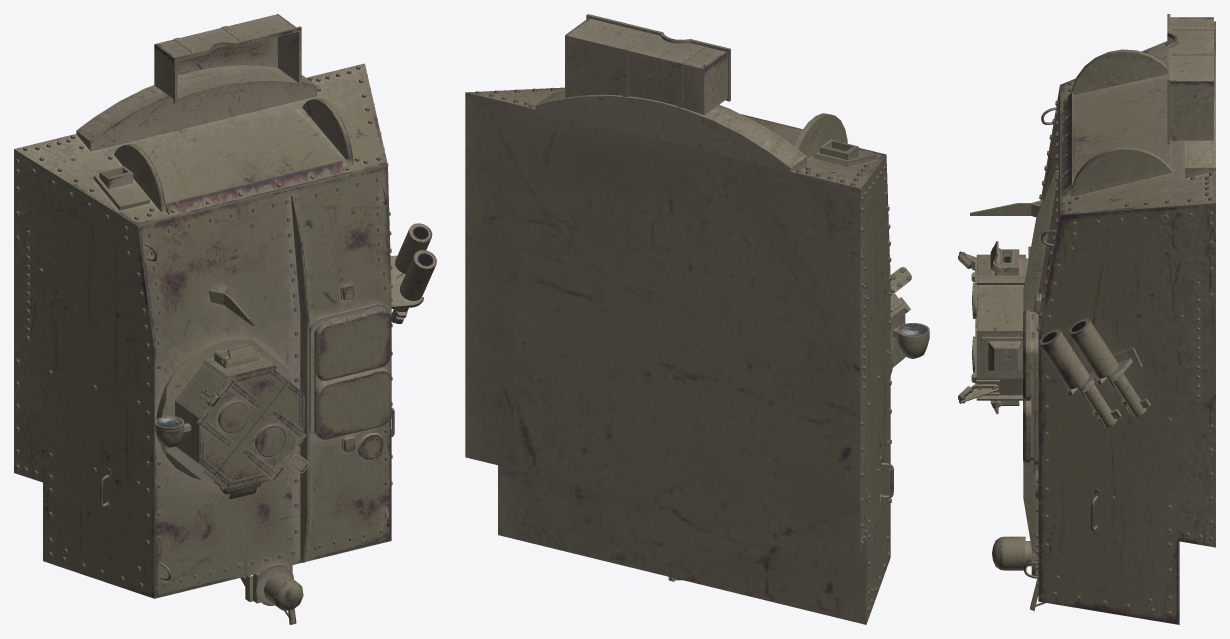
The model's file is Turret_01.glb.
The picture shows the model from 3 angles, left to right: view 1: azimuth 30°, elevation 25°; view 2: azimuth 150°, elevation 25°; view 3: azimuth 270°, elevation 25°; orthographic projection. The views are drawn at different scales.
Visible parts, largest first — view 1: set_0_group_0; view 2: set_0_group_0; view 3: set_0_group_0.
Boxes of the visible parts, <box> form: set_0_group_0: <box>14,14,436,624</box>; set_0_group_0: <box>465,14,929,624</box>; set_0_group_0: <box>958,14,1215,624</box>.
Bounding box in the file's own units: 1.71 × 2.45 × 1.01.
Materials: 1 (1 with a texture image).
